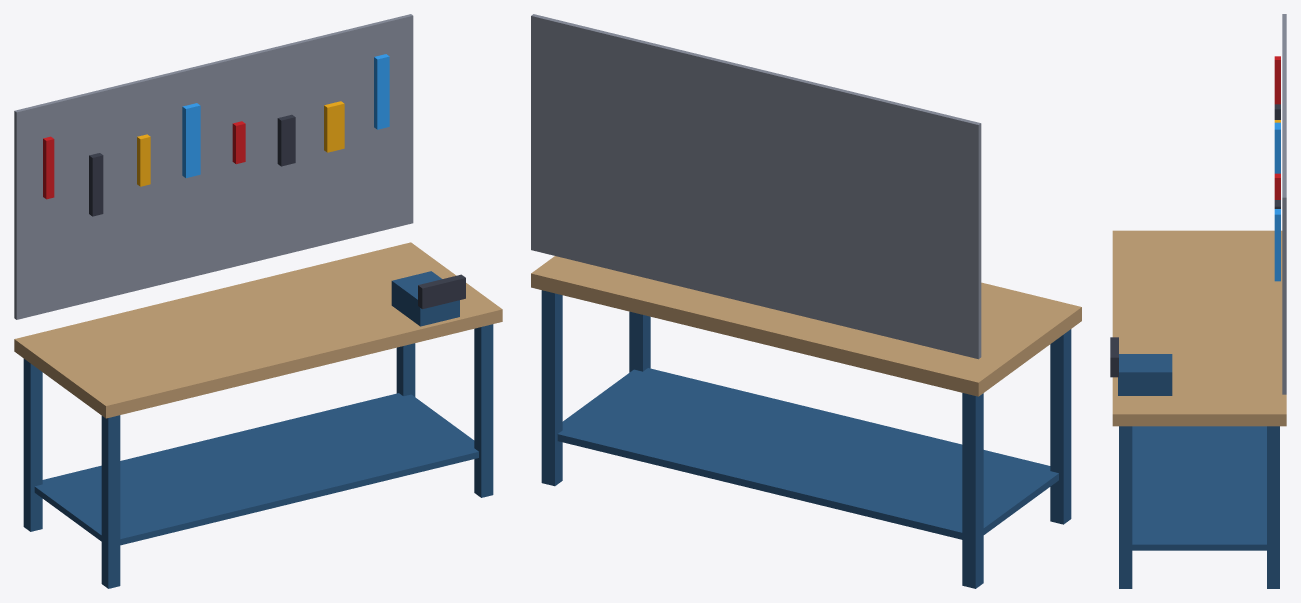
Rendered from ind-017.glb.
3 renders of one model, left to right at view 1: azimuth 30°, elevation 25°; view 2: azimuth 150°, elevation 25°; view 3: azimuth 270°, elevation 25°, orthographic. The views are drawn at different scales.
Parts seen in each view (by area): view 1: locker_grey, machine_blue, oak, dark_steel, plastic_blue, accent_amber, accent_red; view 2: locker_grey, machine_blue, oak; view 3: oak, machine_blue, locker_grey, plastic_blue, dark_steel, accent_red.
Boxes of the visible parts, x1,y1,x2,y2 form: locker_grey: (14,14,413,319); machine_blue: (23,271,493,588); oak: (14,242,502,418); dark_steel: (89,114,465,309); plastic_blue: (182,54,389,177); accent_amber: (137,101,344,186); accent_red: (43,121,245,199); locker_grey: (531,14,981,359); machine_blue: (541,290,1071,588); oak: (531,256,1081,396); oak: (1112,230,1286,426); machine_blue: (1118,354,1279,588); locker_grey: (1282,14,1286,394); plastic_blue: (1274,122,1280,281); dark_steel: (1110,104,1280,377); accent_red: (1274,56,1280,199).
Size of the model in its own units: 2 by 2 by 0.81.
